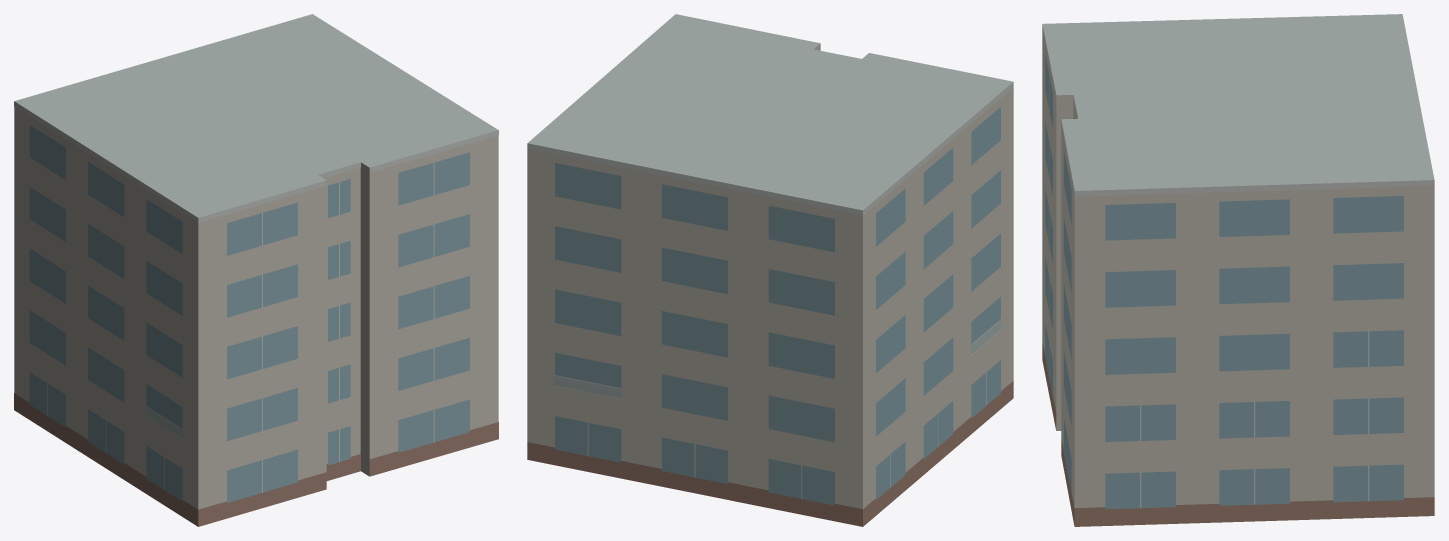
Rendered from survey-upis-32739120.glb.
The picture shows the model from 3 angles, left to right: view 1: azimuth 30°, elevation 25°; view 2: azimuth 150°, elevation 25°; view 3: azimuth 270°, elevation 25°; orthographic projection. The views are drawn at different scales.
Parts seen in each view (by area): view 1: survey-upis-32739120.tmp; view 2: survey-upis-32739120.tmp; view 3: survey-upis-32739120.tmp.
Part boxes in pixels (bbox=[...]): survey-upis-32739120.tmp: bbox=[14, 14, 498, 526]; survey-upis-32739120.tmp: bbox=[527, 14, 1013, 526]; survey-upis-32739120.tmp: bbox=[1042, 14, 1434, 526].
Size of the model in its own units: 16.4 by 14.5 by 15.35.
